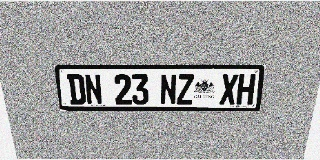2: (114, 74, 132, 105)
3: (131, 74, 148, 105)
D: (66, 74, 86, 105)
H: (236, 74, 256, 105)
N: (84, 74, 103, 105), (160, 74, 177, 105)
X: (219, 74, 238, 105)
Z: (177, 74, 194, 105)
